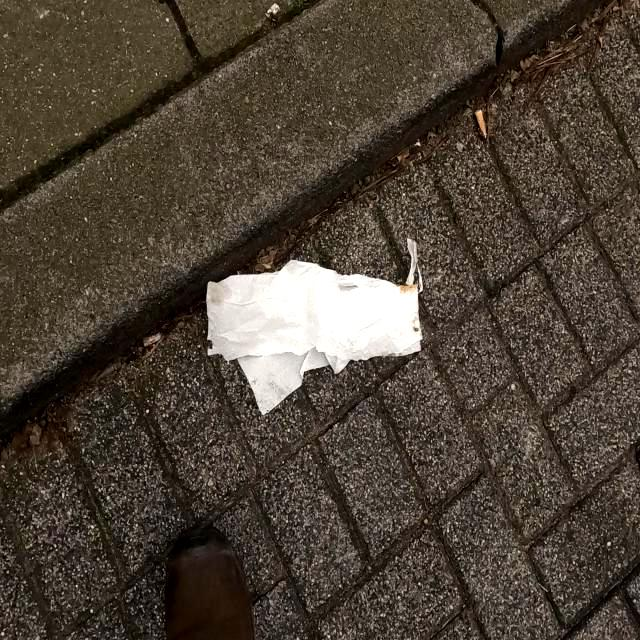Paper: (203, 237, 424, 419)
